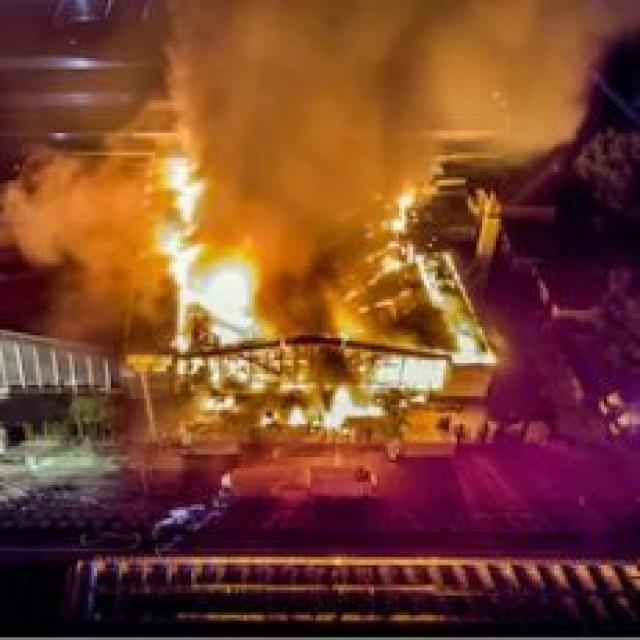Fire: (412, 262, 503, 368), (166, 238, 254, 334), (194, 351, 316, 396), (157, 150, 215, 226), (372, 351, 458, 397), (385, 181, 425, 244), (323, 387, 365, 436), (281, 404, 306, 429)
Smoke: (144, 4, 573, 226), (2, 156, 150, 294)
